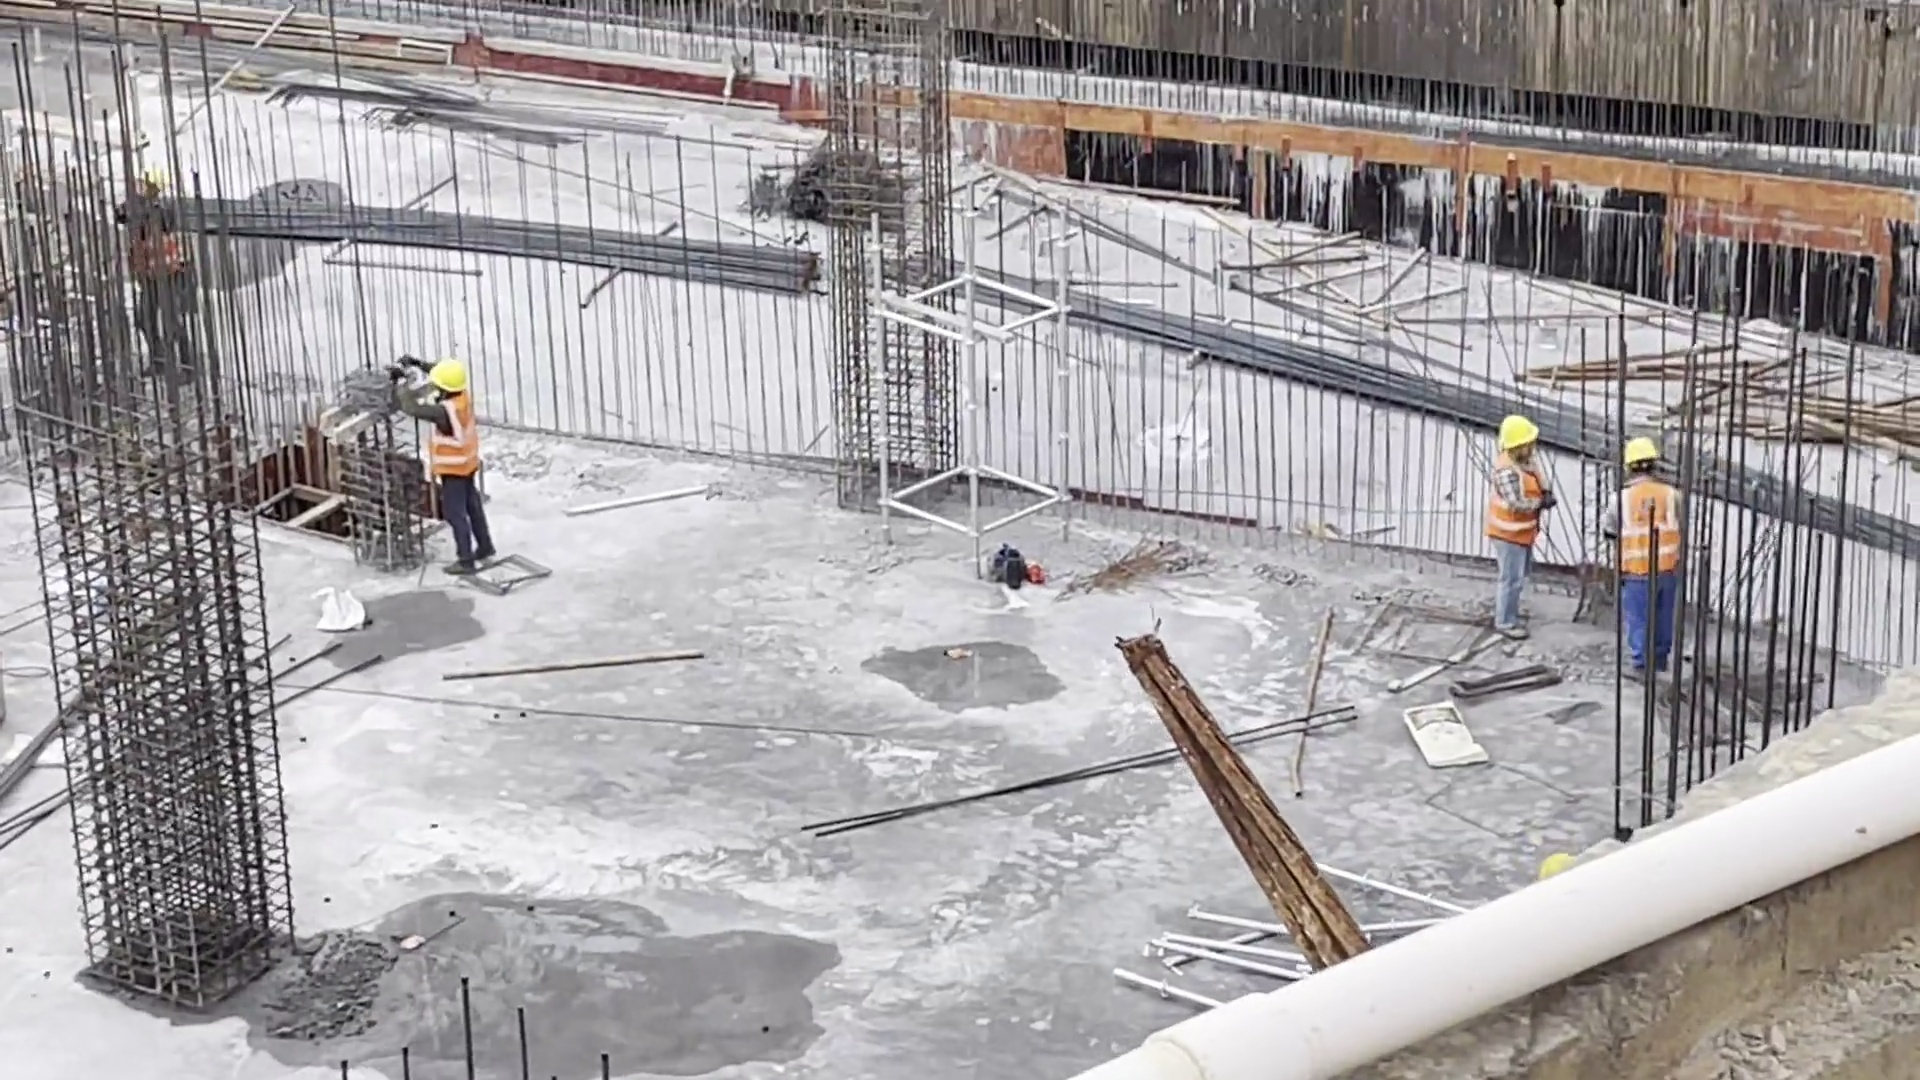helmet: (427, 353, 486, 397), (1618, 435, 1665, 467), (1497, 415, 1537, 450)
person: (393, 352, 515, 584), (1605, 431, 1691, 681), (122, 175, 211, 382), (1483, 408, 1553, 644)
rebar: (195, 171, 827, 303)
vest: (1604, 487, 1695, 578), (1483, 468, 1559, 558), (420, 400, 491, 481)
